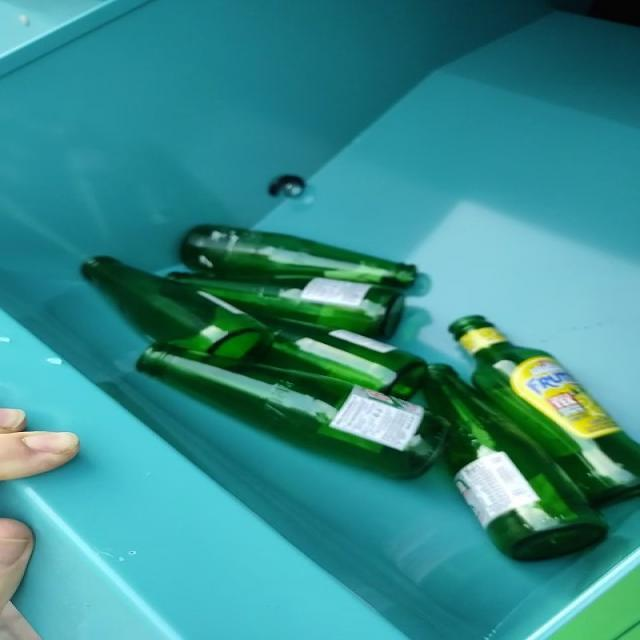Glass: (81, 226, 640, 561)
